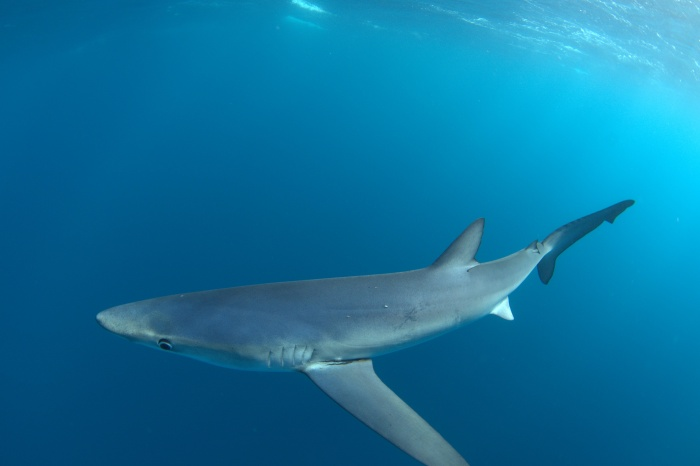Azul: (72, 181, 638, 466)
